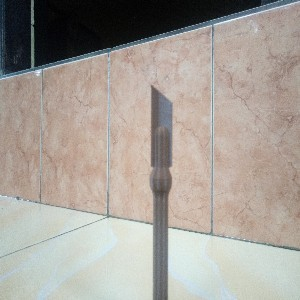cutter: (148, 84, 174, 300)
